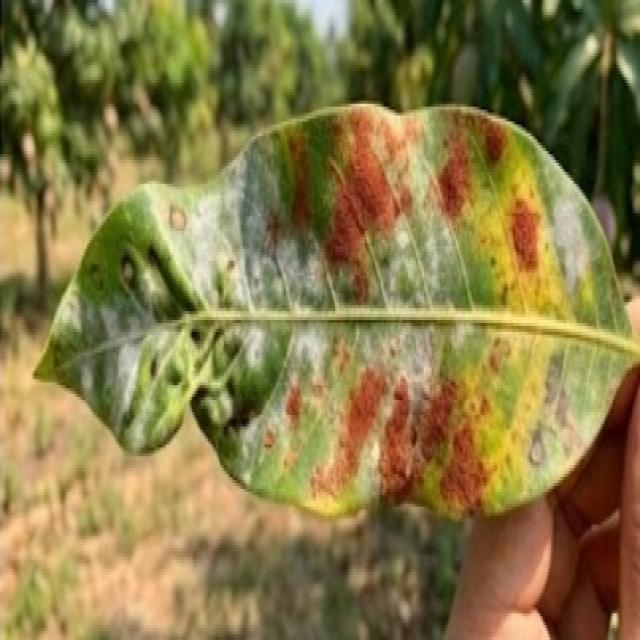Powdery Mildew: (545, 198, 599, 295), (286, 322, 340, 376), (113, 343, 140, 427), (286, 255, 313, 300), (205, 208, 223, 254), (247, 329, 266, 370), (101, 306, 120, 337), (452, 323, 471, 349), (81, 368, 93, 397)
